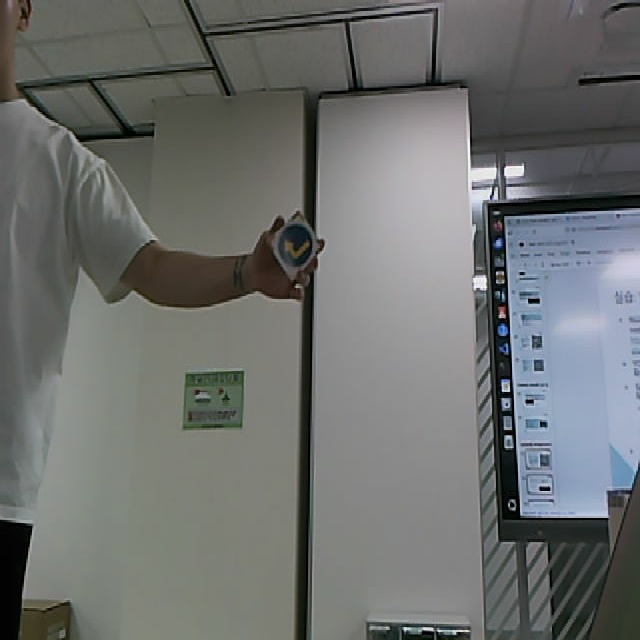right: (264, 211, 322, 283)
